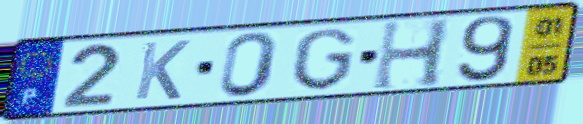0: (218, 30, 282, 99)
2: (59, 40, 127, 111)
9: (455, 13, 517, 84)
G: (289, 26, 358, 93)
H: (369, 17, 455, 94)
K: (131, 38, 194, 102)
